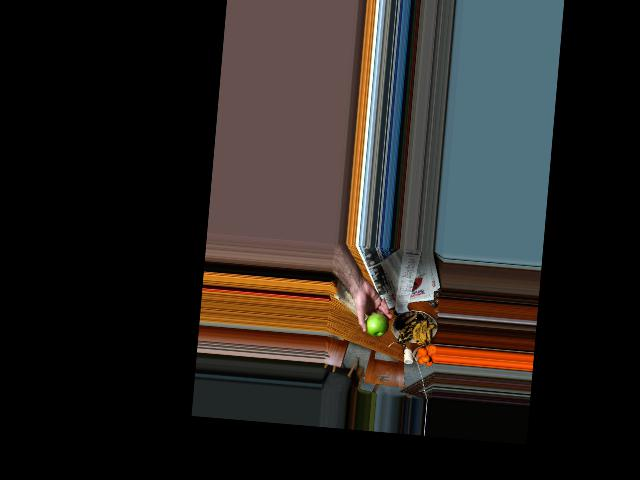apple: (364, 313, 386, 336)
